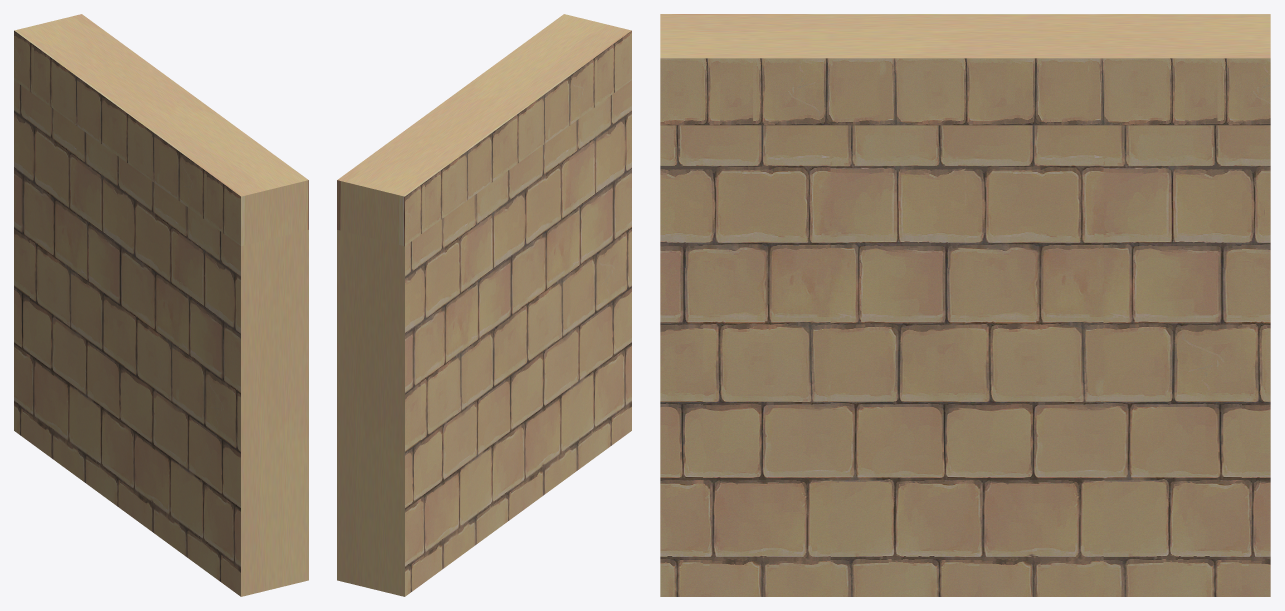
File: FlatWall.fbx
3 renders of one model, left to right at view 1: azimuth 30°, elevation 25°; view 2: azimuth 150°, elevation 25°; view 3: azimuth 270°, elevation 25°, orthographic. The views are drawn at different scales.
Parts seen in each view (by area): view 1: pPlane1; view 2: pPlane1; view 3: pPlane1.
Boxes of the visible parts, x1,y1,x2,y2 form: pPlane1: (14,14,308,596); pPlane1: (337,14,631,596); pPlane1: (660,14,1270,596).
Bounding box in the file's own units: 227 × 1283 × 1318.
